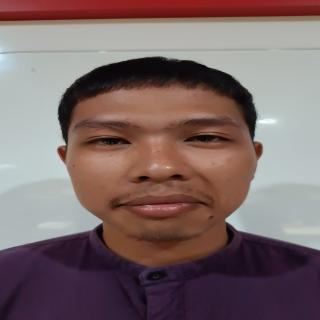Sedih: (64, 83, 256, 240)
